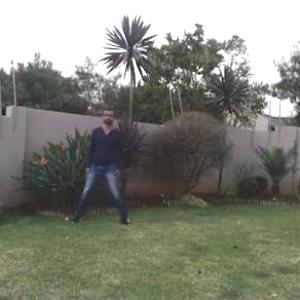follow: (90, 99, 126, 221)
